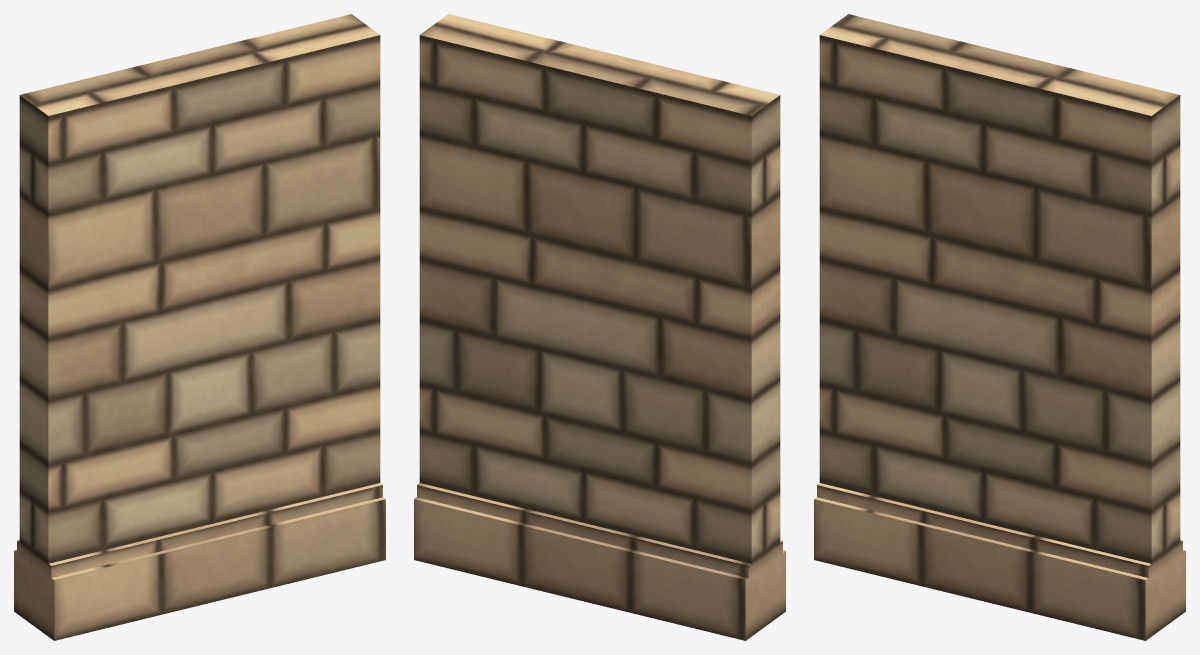
Rendered from wall_stone_2x3.glb.
The picture shows the model from 3 angles, left to right: view 1: azimuth 30°, elevation 25°; view 2: azimuth 150°, elevation 25°; view 3: azimuth 330°, elevation 25°; orthographic projection.
Parts seen in each view (by area): view 1: wall_stone_2x3; view 2: wall_stone_2x3; view 3: wall_stone_2x3.
Boxes of the visible parts, x1,y1,x2,y2 form: wall_stone_2x3: (14,14,385,640); wall_stone_2x3: (414,14,785,640); wall_stone_2x3: (814,14,1185,640).
Size of the model in its own units: 2 by 3 by 0.42.
Materials: 1 (1 with a texture image).
